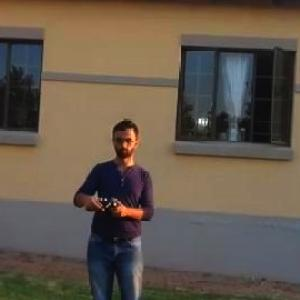follow: (66, 110, 161, 299)
